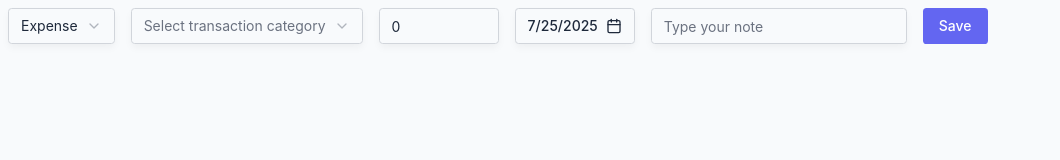
TransactionEditor › renders errors on save click if the form isn't valid
Click the button with aria-label "save transaction" at (955, 26), box [923, 8, 988, 44]
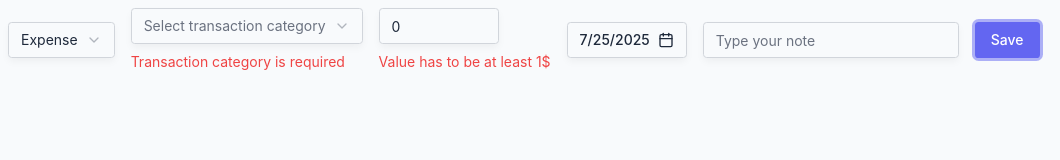
Expected: the text "Transaction category is required" is shown, [131, 44, 363, 72]
